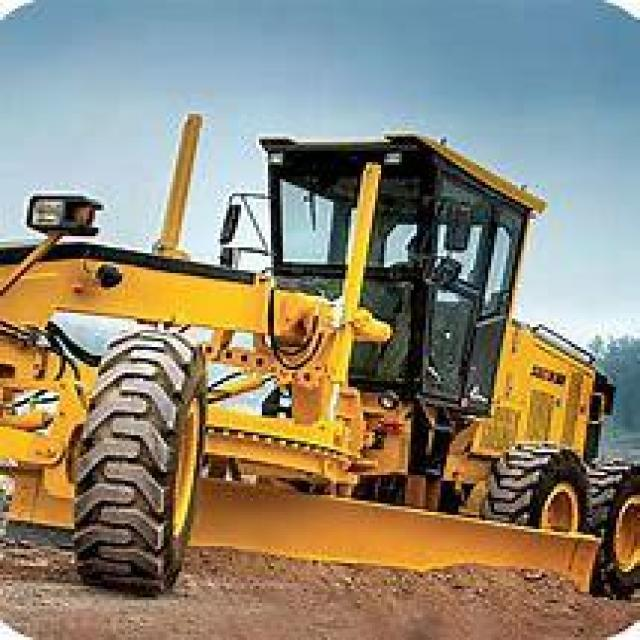Grader: (6, 111, 637, 606)
